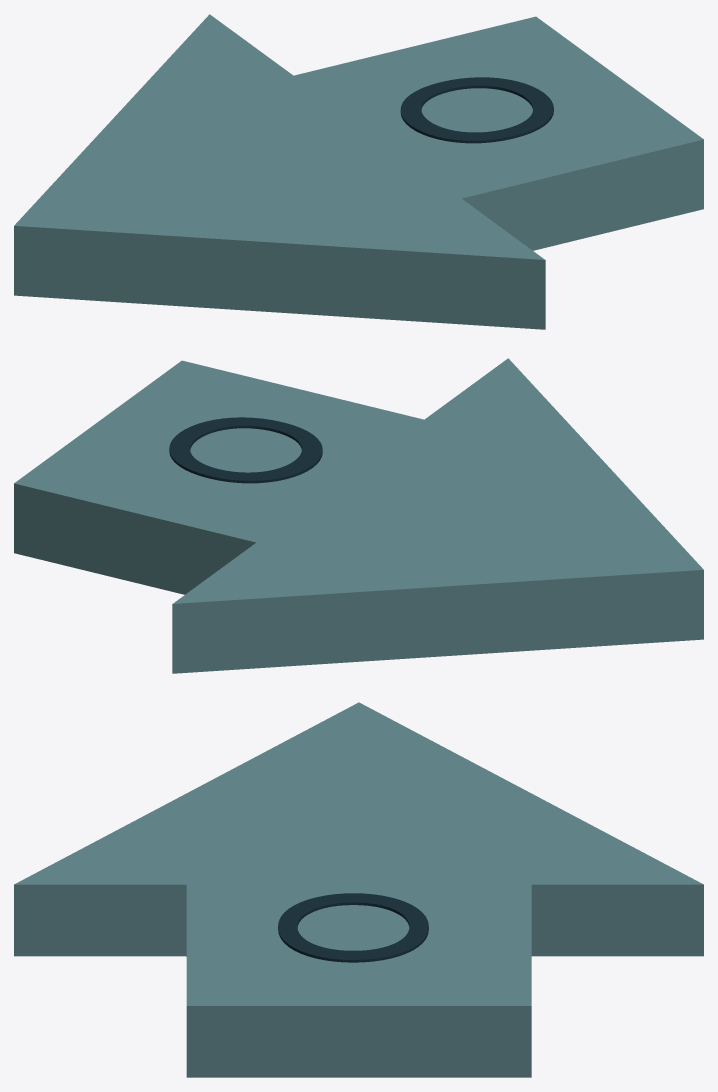
The model's file is marcador_oeste.fbx.
The picture shows the model from 3 angles, top to bottom: view 1: azimuth 30°, elevation 25°; view 2: azimuth 150°, elevation 25°; view 3: azimuth 270°, elevation 25°; orthographic projection. The views are drawn at different scales.
Parts seen in each view (by area): view 1: SM_Cardinal_oeste, TXT_Cardinal_oeste; view 2: SM_Cardinal_oeste, TXT_Cardinal_oeste; view 3: SM_Cardinal_oeste, TXT_Cardinal_oeste.
Boxes of the visible parts, x1,y1,x2,y2 form: SM_Cardinal_oeste: [14, 14, 703, 329]; TXT_Cardinal_oeste: [400, 77, 553, 143]; SM_Cardinal_oeste: [14, 358, 703, 673]; TXT_Cardinal_oeste: [169, 417, 322, 483]; SM_Cardinal_oeste: [14, 702, 703, 1077]; TXT_Cardinal_oeste: [278, 893, 428, 962].
Bounding box in the file's own units: 0.5 × 0.06 × 0.48.
